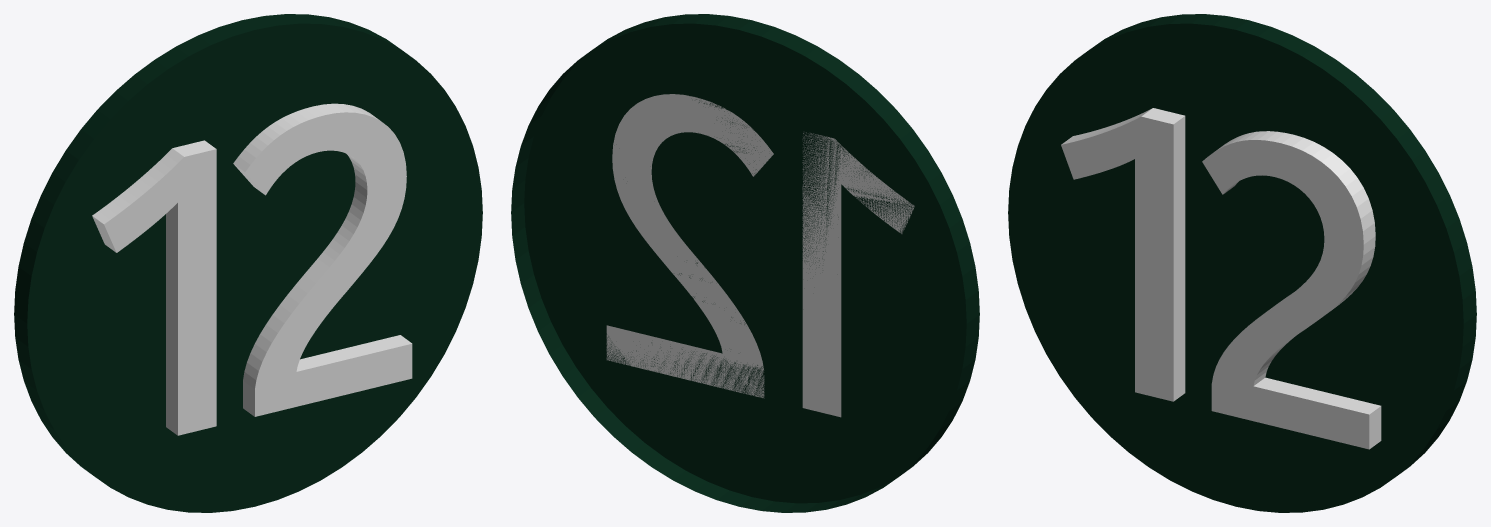
The model's file is Ligne12.glb.
The picture shows the model from 3 angles, left to right: view 1: azimuth 30°, elevation 25°; view 2: azimuth 150°, elevation 25°; view 3: azimuth 330°, elevation 25°; orthographic projection.
Parts seen in each view (by area): view 1: Ligne12; view 2: Ligne12; view 3: Ligne12.
Part boxes in pixels (x1=…): Ligne12: x1=14, y1=14, x2=482, y2=512; Ligne12: x1=511, y1=14, x2=979, y2=512; Ligne12: x1=1008, y1=14, x2=1476, y2=512.
Size of the model in its own units: 1.1 by 1.1 by 0.105.
